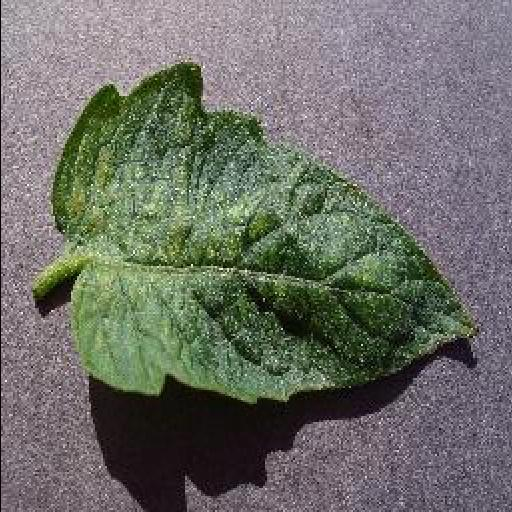disease_tomato: (52, 60, 480, 402)
